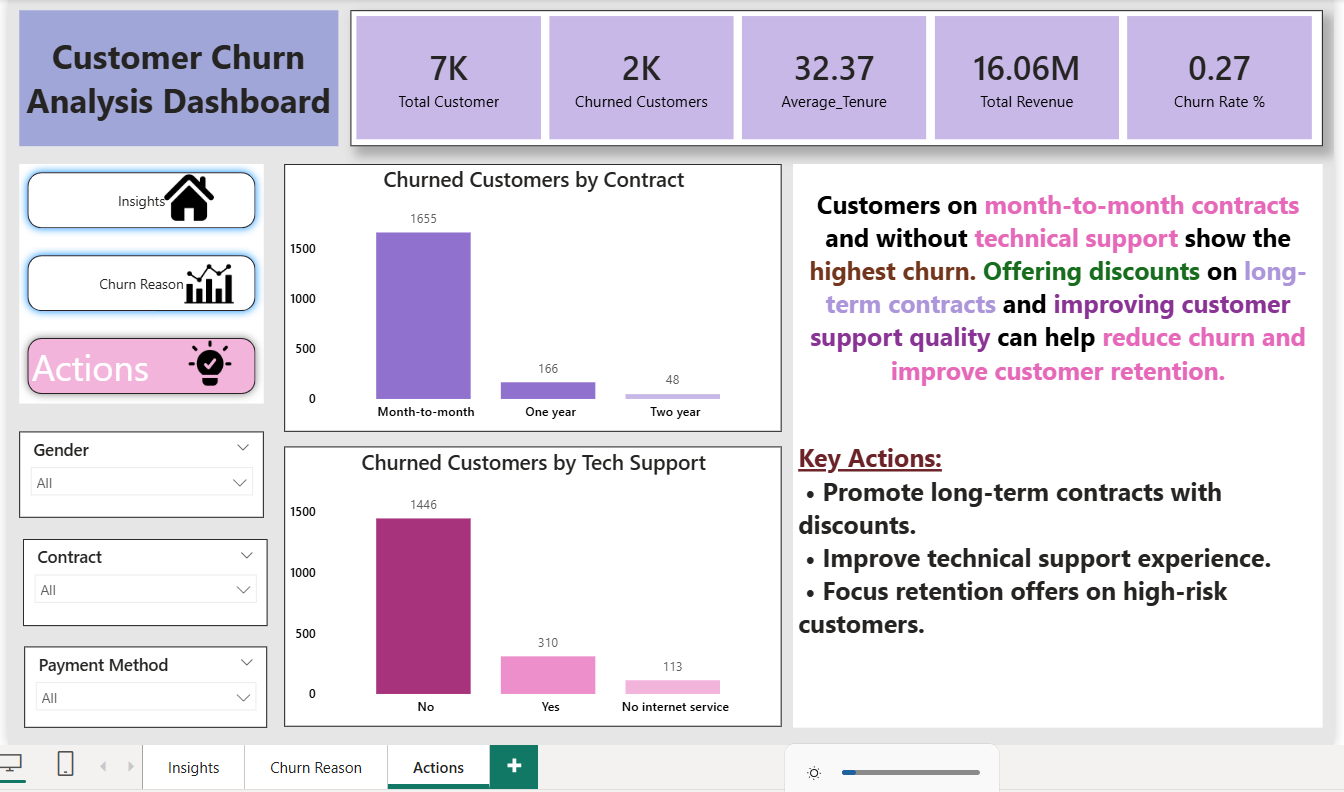

What the dashboard file says about the page in this screenshot:
{"tool":"powerbi","page":{"name":"Actions","canvas":[1280,720],"ordinal":2},"visuals":[{"type":"textbox","box":[10.9,10.9,307.6,131.5],"z":0},{"type":"cardVisual","fields":{"Data":["Telco_Churn.Total Customer","Telco_Churn.Churned Customers","Telco_Churn.Average_Tenure","Telco_Churn.Total Revenue","Telco_Churn.Churn Rate %"]},"box":[330.6,10.9,938.6,131.5],"z":1000},{"type":"pageNavigator","box":[11,159,236,231.1],"z":2000},{"type":"image","box":[143.6,167.7,62.7,48.3],"z":3000},{"type":"slicer","fields":{"Values":["Telco_Churn.Gender"]},"box":[11,417,236,83.2],"z":4000},{"type":"slicer","fields":{"Values":["Telco_Churn.Contract"]},"box":[14.7,520.9,236,84.4],"z":5000},{"type":"slicer","fields":{"Values":["Telco_Churn.Payment Method"]},"box":[15.9,624.9,234.8,78.3],"z":6000},{"type":"image","box":[162.6,250.7,62.4,47.7],"z":7000},{"type":"image","box":[159,327.7,70.9,47.7],"z":8000},{"type":"columnChart","fields":{"Category":["Telco_Churn.Contract"],"Y":["Telco_Churn.Churned Customers"]},"box":[266.6,159.3,480.2,258.2],"z":9000},{"type":"textbox","box":[757.6,159.3,511.5,544.1],"z":10000},{"type":"columnChart","fields":{"Y":["Telco_Churn.Churned Customers"],"Category":["Telco_Churn.Tech Support"]},"box":[266.6,431.9,480.2,270.2],"z":11000}]}

Visuals, with their boxes on the page's 1280x720 design canvas (x1, y1, x2, y2). These are canvas units, not pixel positions in the 1344x792 screenshot, which may show the page scaled, cropped or inside an application window:
textbox: select_region(11, 11, 318, 142)
cardVisual - Telco_Churn.Total Customer x Telco_Churn.Churned Customers: select_region(331, 11, 1269, 142)
pageNavigator: select_region(11, 159, 247, 390)
image: select_region(144, 168, 206, 216)
slicer - Telco_Churn.Gender: select_region(11, 417, 247, 500)
slicer - Telco_Churn.Contract: select_region(15, 521, 251, 605)
slicer - Telco_Churn.Payment Method: select_region(16, 625, 251, 703)
image: select_region(163, 251, 225, 298)
image: select_region(159, 328, 230, 375)
columnChart - Telco_Churn.Contract x Telco_Churn.Churned Customers: select_region(267, 159, 747, 418)
textbox: select_region(758, 159, 1269, 703)
columnChart - Telco_Churn.Churned Customers x Telco_Churn.Tech Support: select_region(267, 432, 747, 702)
